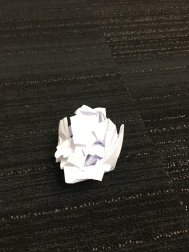paper_brown: (50, 101, 136, 188)
